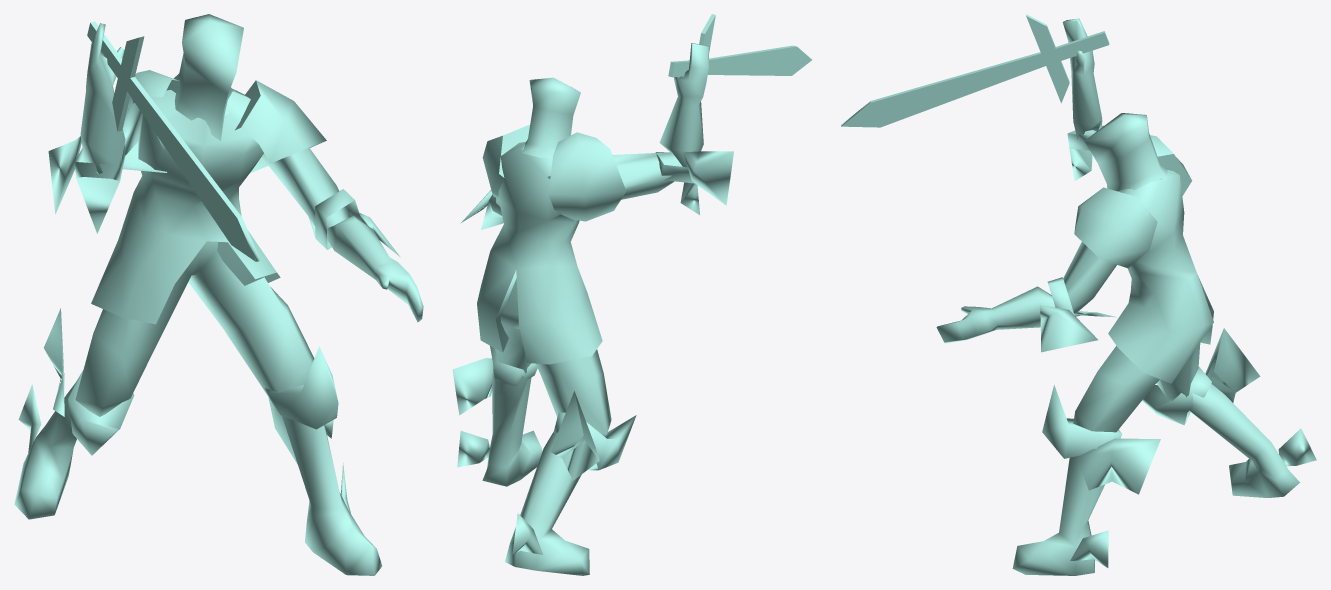
3 views of the same model, side by side, from view 1: azimuth 30°, elevation 25°; view 2: azimuth 150°, elevation 25°; view 3: azimuth 270°, elevation 25° (orthographic). The views are drawn at different scales.
Parts seen in each view (by area): view 1: Object69; view 2: Object69; view 3: Object69.
Part boxes in pixels (box(x1,y1,x2,y2)): Object69: box(14, 14, 423, 575); Object69: box(452, 14, 811, 575); Object69: box(841, 14, 1316, 575).
Size of the model in its own units: 130 by 223 by 206.
